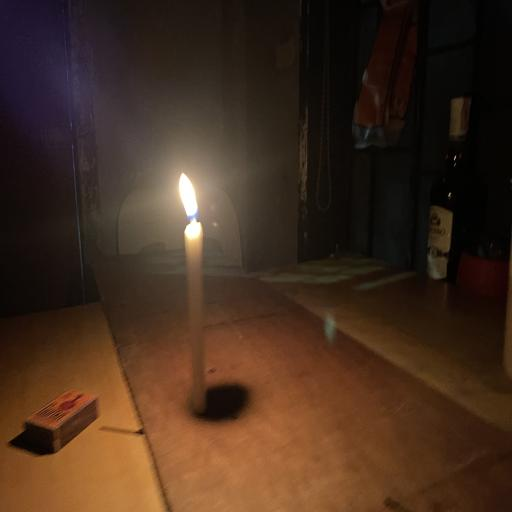fire: (158, 156, 223, 254)
